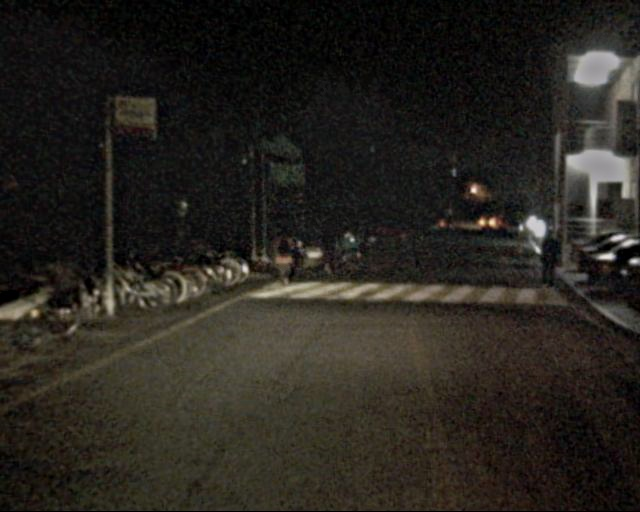person: (268, 226, 296, 295), (534, 229, 562, 297), (315, 221, 337, 274)
